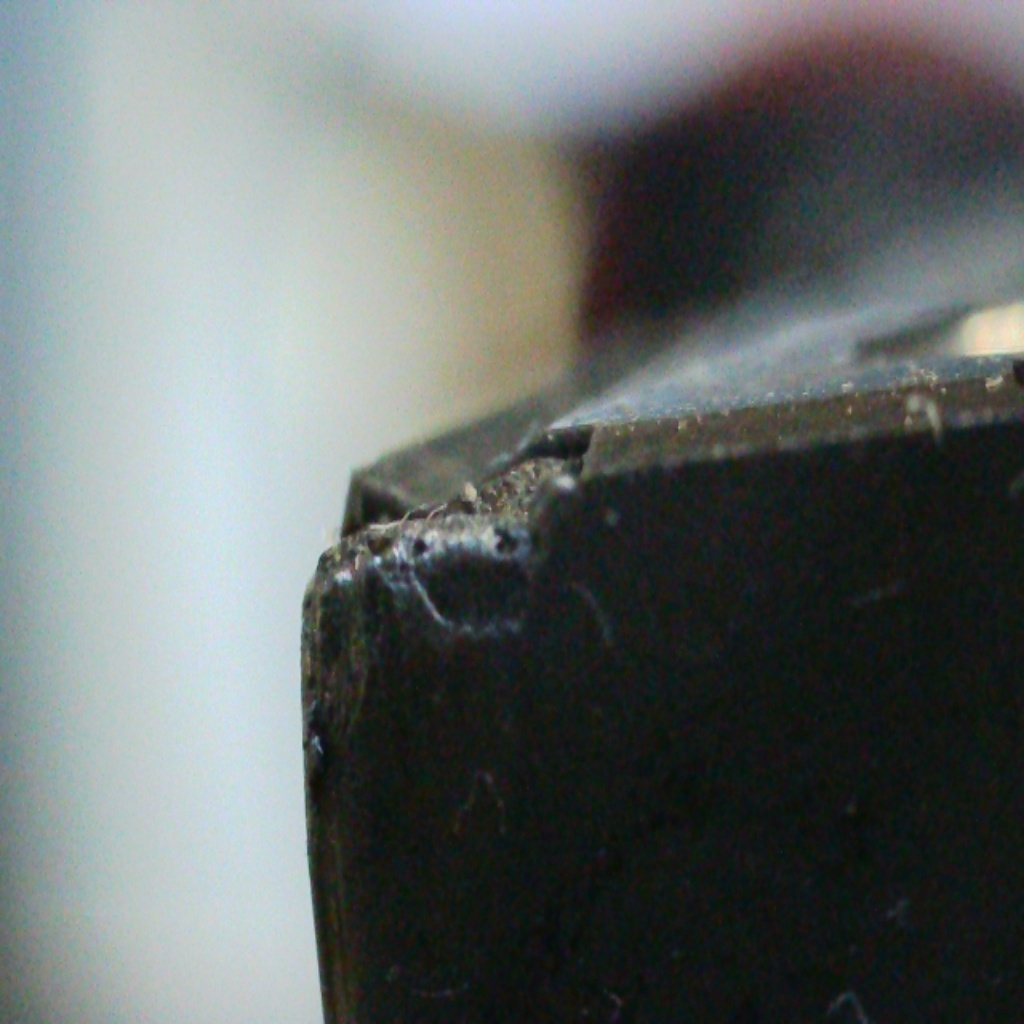flank_wear: (403, 547, 545, 644)
